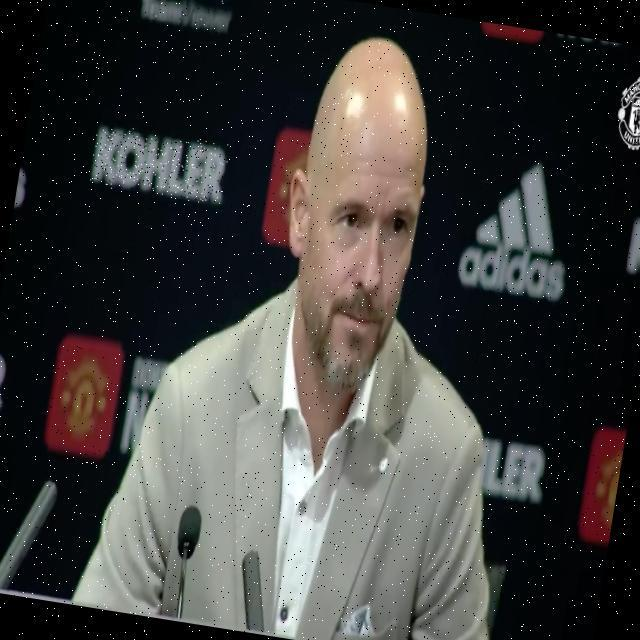Adidas: (456, 150, 584, 301)
Kohler: (89, 123, 231, 206)
TeamViewer: (138, 0, 236, 36)
